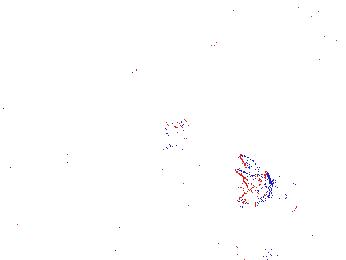flame jellyfish: (153, 118, 215, 206), (233, 154, 304, 222), (35, 145, 99, 213)
